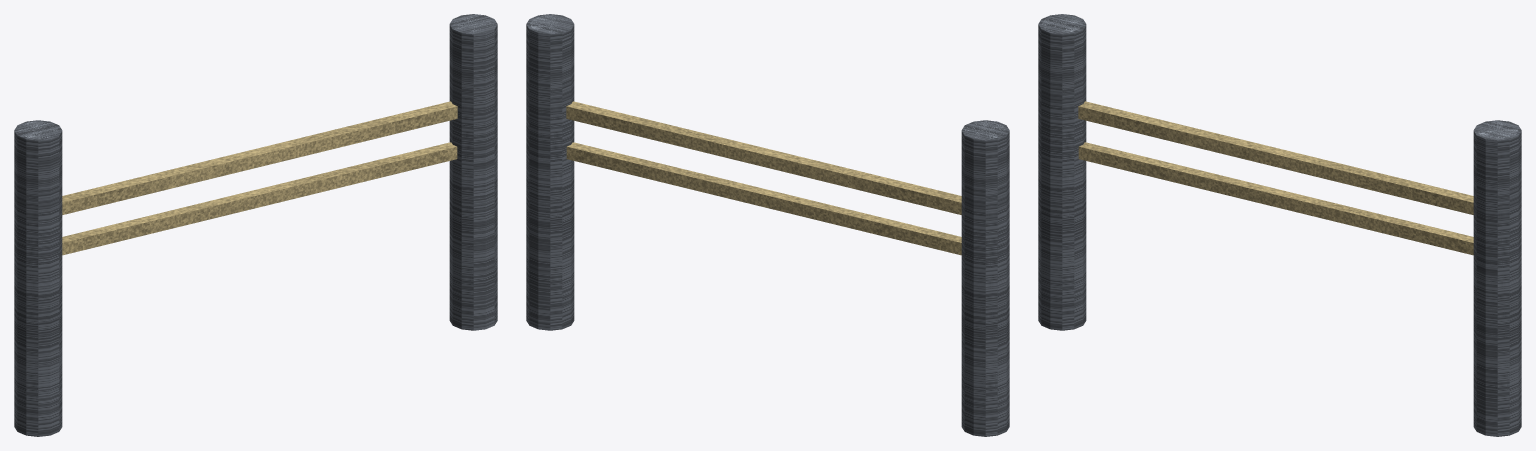
The model's file is stanchion_barrier.fbx.
3 renders of one model, left to right at view 1: azimuth 30°, elevation 25°; view 2: azimuth 150°, elevation 25°; view 3: azimuth 330°, elevation 25°, orthographic.
Visible parts, largest first — view 1: stanchion_barrier; view 2: stanchion_barrier; view 3: stanchion_barrier.
Part boxes in pixels (x1,y1,x2,y2): stanchion_barrier: (14,14,497,436); stanchion_barrier: (526,14,1009,436); stanchion_barrier: (1038,14,1521,436).
Size of the model in its own units: 160 by 95 by 14.
